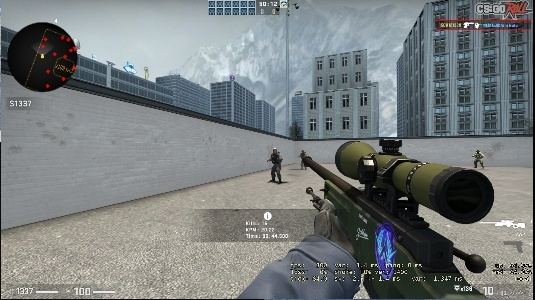body: (268, 148, 283, 184), (473, 150, 485, 169), (298, 149, 308, 170)
head: (271, 148, 277, 155), (301, 149, 305, 154), (476, 150, 481, 154)
